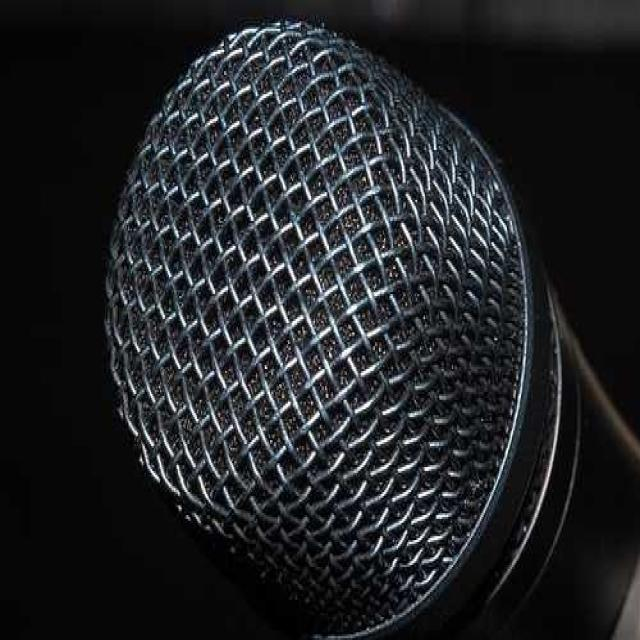microphone: (109, 21, 634, 634)
